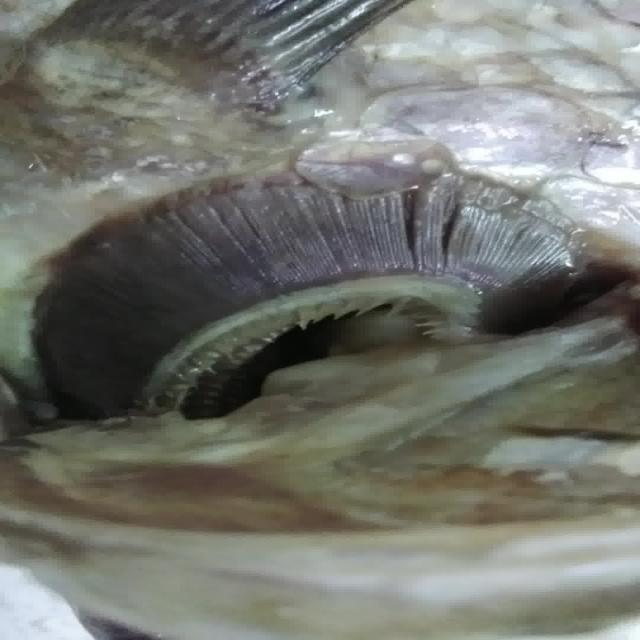Non-Fresh: (34, 165, 606, 404)
